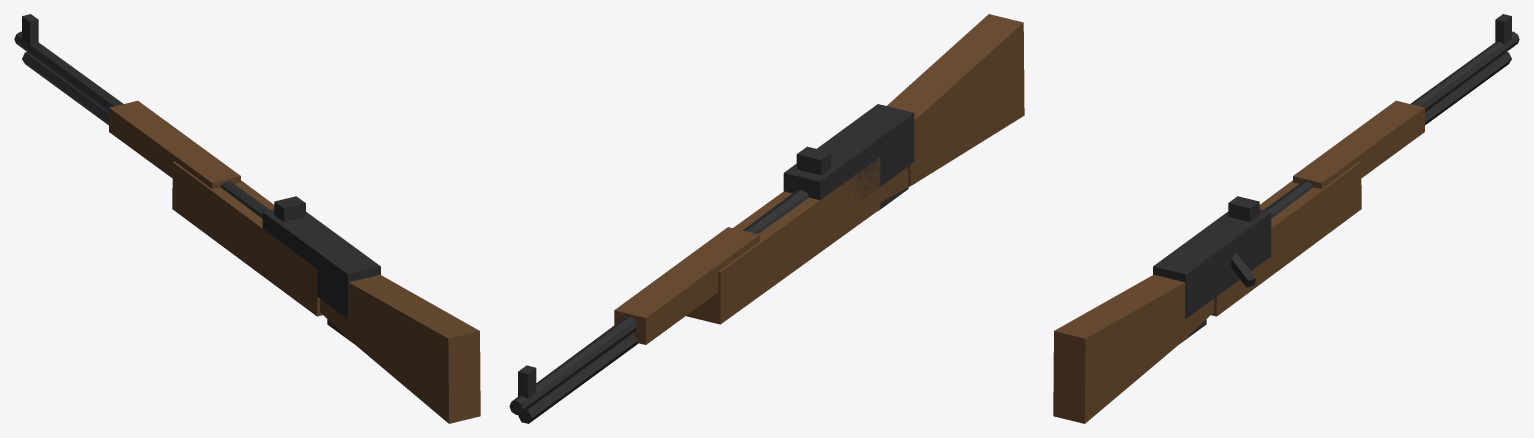
File: garand.glb
3 views of the same model, side by side, from view 1: azimuth 30°, elevation 25°; view 2: azimuth 150°, elevation 25°; view 3: azimuth 330°, elevation 25° (orthographic). The views are drawn at different scales.
Visible parts, largest first — view 1: garand; view 2: garand; view 3: garand.
Boxes of the visible parts, x1,y1,x2,y2 form: garand: [14, 14, 480, 423]; garand: [509, 14, 1024, 423]; garand: [1053, 14, 1519, 423].
Size of the model in its own units: 0.0887 by 0.125 by 1.12.
